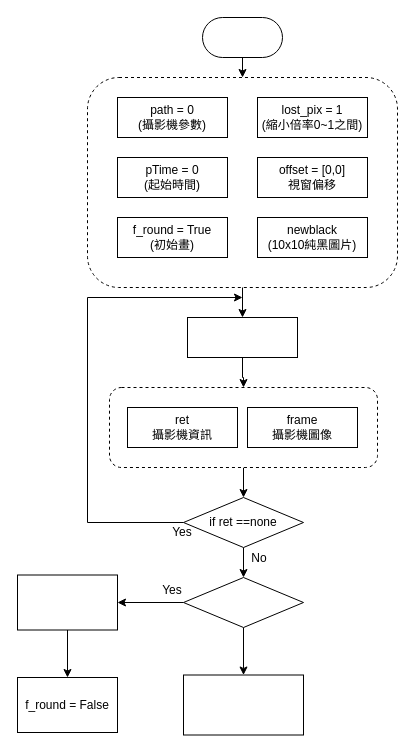
The diagram is 415 pixels wide and 753 high, and some of its shapes have lost their labels. The box of each missing label's shape, as (x1, y1, x2, y2) in pixels:
if f_round = True: (182, 576, 304, 628)
start: (202, 16, 282, 58)
調整newblack與 frame大小相同: (16, 574, 118, 630)
連線攝影機: (186, 316, 298, 358)
